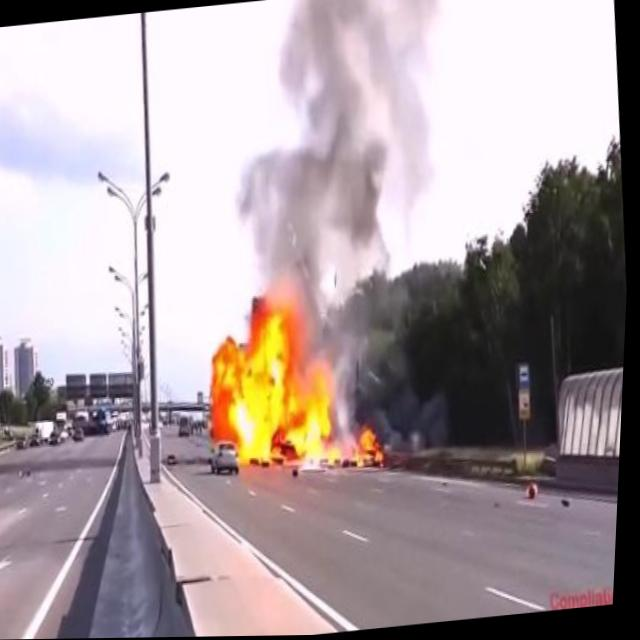fire: (198, 280, 398, 491)
